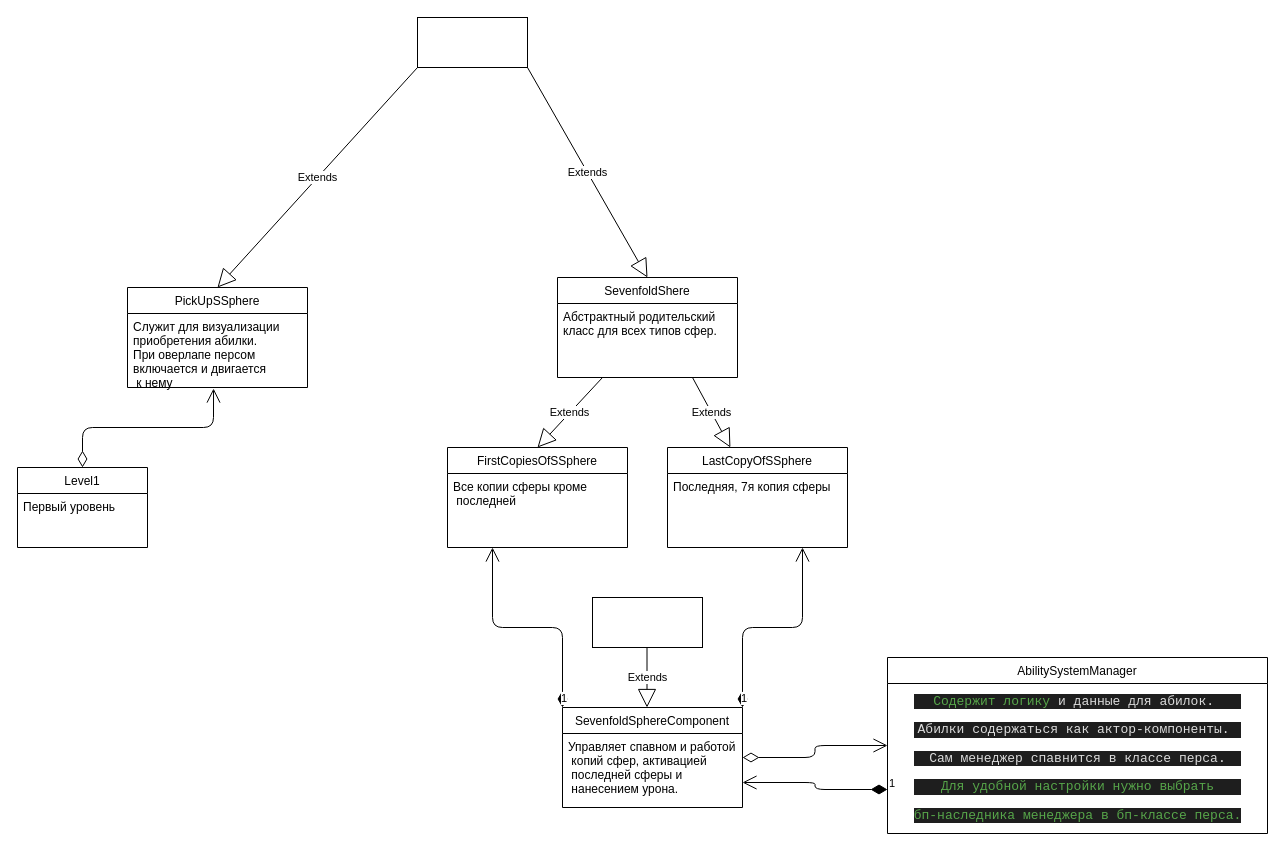
Some shapes in this 1285 by 854 pixel diagram are drawn without their labels. The centre of each missing label's shape, as x and y in pixels:
Actor: the point at 472,42
ActorComponent: the point at 647,622
